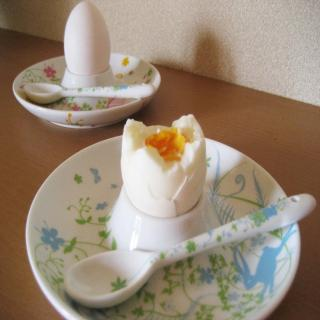Egg: (121, 110, 206, 222), (64, 0, 110, 75)
